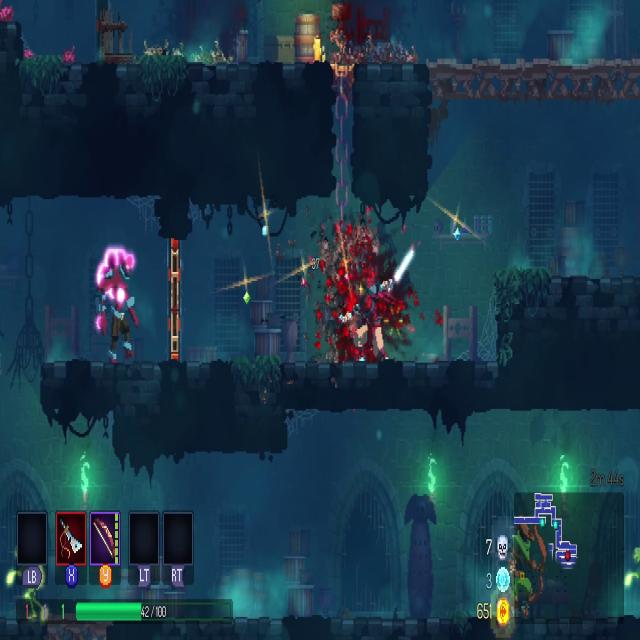agents: (354, 277, 394, 366)
door_regular: (167, 238, 185, 366)
enemy_archer: (500, 516, 549, 619)
enemy_green_puncher: (7, 537, 50, 622), (624, 536, 640, 614)
enemy_purple_big: (96, 245, 141, 357)
